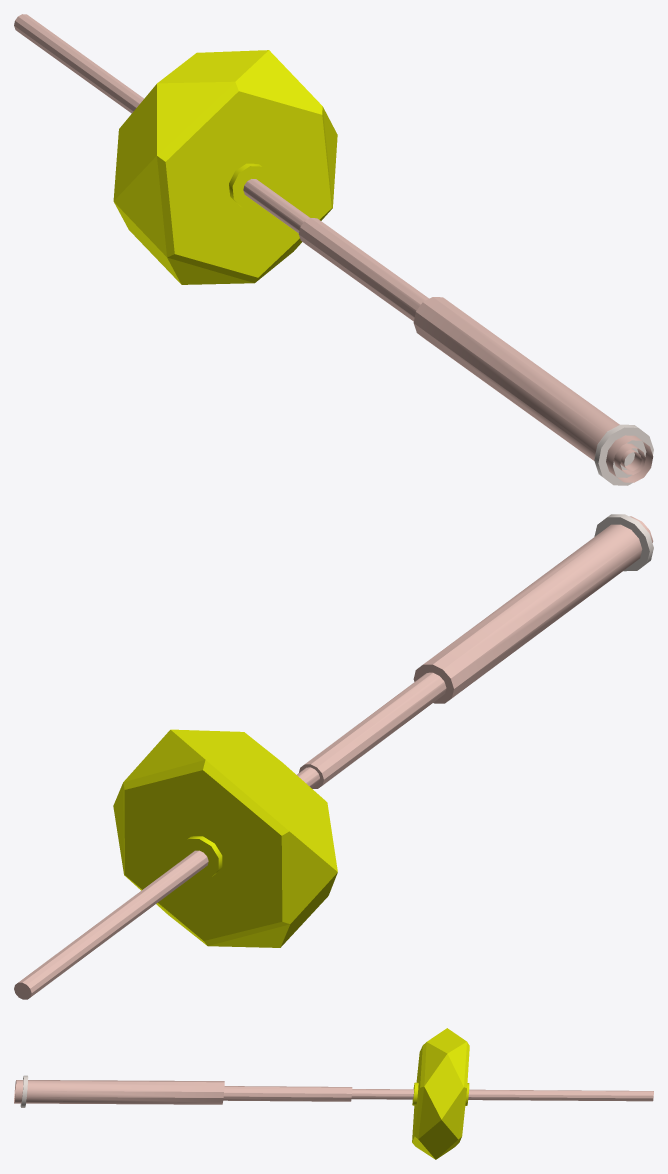
The model's file is branch.031_c.glb.
3 renders of one model, top to bottom at view 1: azimuth 30°, elevation 25°; view 2: azimuth 150°, elevation 25°; view 3: azimuth 270°, elevation 25°, orthographic. The views are drawn at different scales.
Parts seen in each view (by area): view 1: glass.011, MET-59_3D-Model.17678, MET-59_3D-Model.17679; view 2: glass.011, MET-59_3D-Model.17678, MET-59_3D-Model.17679; view 3: MET-59_3D-Model.17678, glass.011.
Part boxes in pixels (x1=…): glass.011: x1=113, y1=50, x2=337, y2=284; MET-59_3D-Model.17678: x1=14, y1=14, x2=653, y2=482; MET-59_3D-Model.17679: x1=594, y1=424, x2=653, y2=485; glass.011: x1=113, y1=729, x2=337, y2=947; MET-59_3D-Model.17678: x1=14, y1=516, x2=653, y2=999; MET-59_3D-Model.17679: x1=594, y1=514, x2=653, y2=571; MET-59_3D-Model.17678: x1=14, y1=1080, x2=653, y2=1104; glass.011: x1=412, y1=1028, x2=469, y2=1159.
Bounding box in the file's own units: 0.0987 × 0.0852 × 0.4662.
